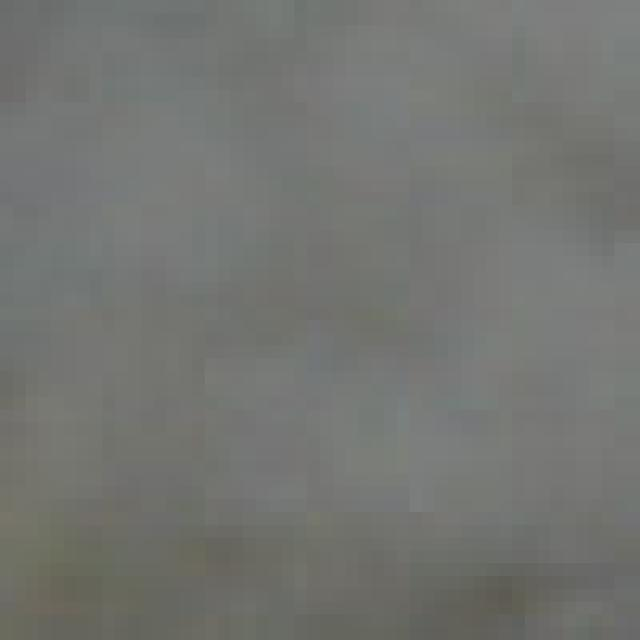fire: (40, 67, 639, 640)
